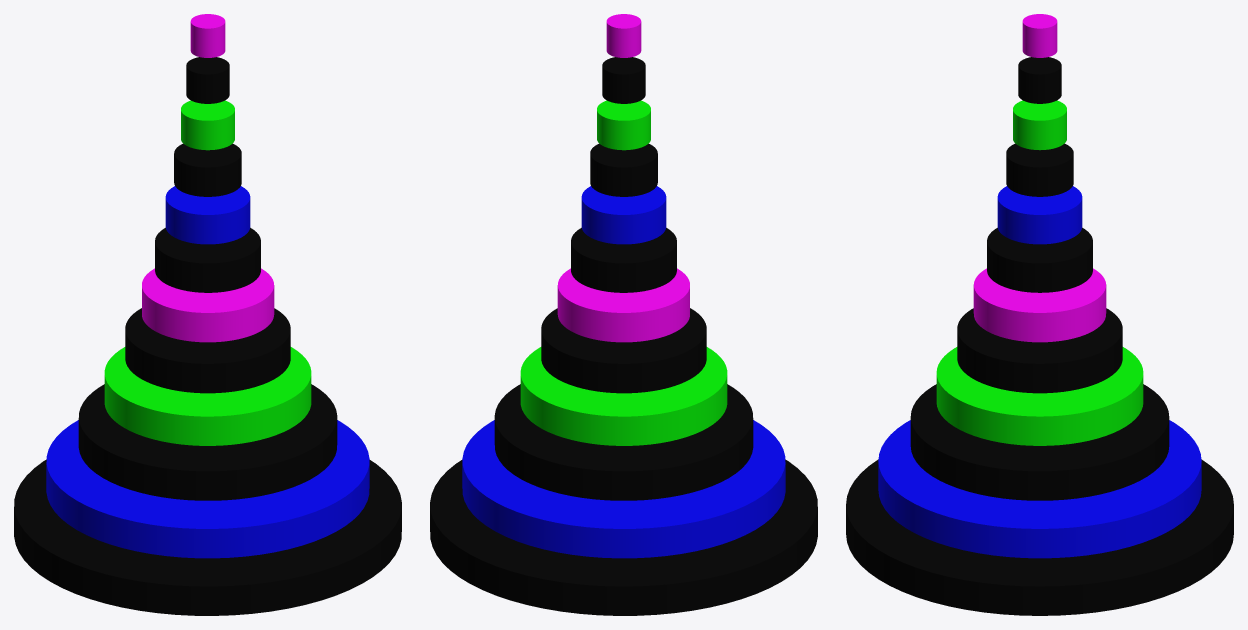
The picture shows the model from 3 angles, left to right: view 1: azimuth 30°, elevation 25°; view 2: azimuth 150°, elevation 25°; view 3: azimuth 270°, elevation 25°; orthographic projection.
Visible parts, largest first — view 1: tower; view 2: tower; view 3: tower.
Boxes of the visible parts, x1,y1,x2,y2 form: tower: (14, 14, 401, 615); tower: (430, 14, 817, 615); tower: (846, 14, 1233, 615).
Bounding box in the file's own units: 0.2057 × 0.3 × 0.2057.
